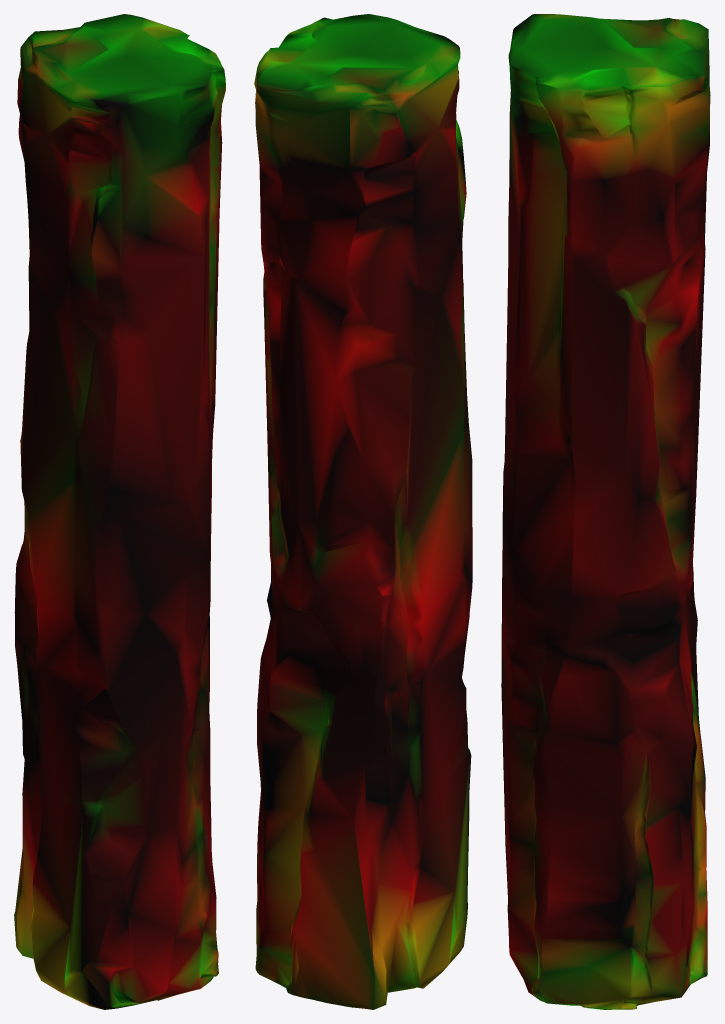
The model's file is SM_Stone_Pillar_02.fbx.
3 renders of one model, left to right at view 1: azimuth 30°, elevation 25°; view 2: azimuth 150°, elevation 25°; view 3: azimuth 270°, elevation 25°, orthographic.
Parts seen in each view (by area): view 1: SM_Stone_Pillar_02_LOD0; view 2: SM_Stone_Pillar_02_LOD0; view 3: SM_Stone_Pillar_02_LOD0.
Boxes of the visible parts, left/top/right/bottom form: SM_Stone_Pillar_02_LOD0: left=14, top=14, right=225, bottom=1009; SM_Stone_Pillar_02_LOD0: left=254, top=14, right=472, bottom=1009; SM_Stone_Pillar_02_LOD0: left=501, top=14, right=710, bottom=1009.
Bounding box in the file's own units: 56.38 × 61.82 × 304.
